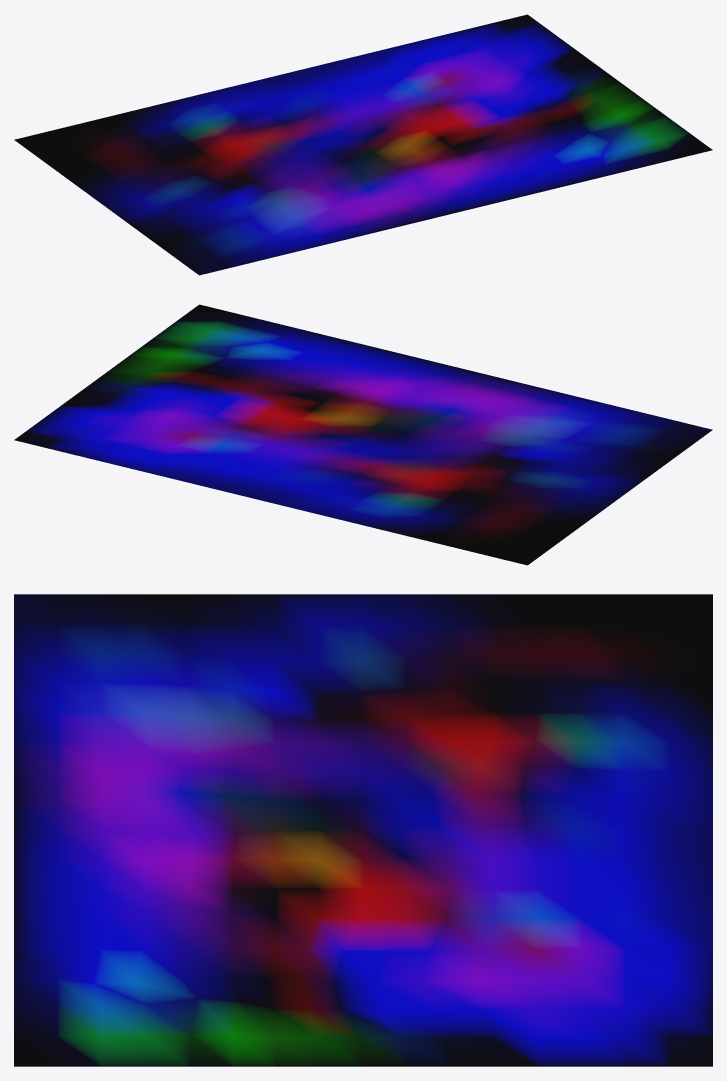
Rendered from M_Env_Sol1.fbx.
3 renders of one model, top to bottom at view 1: azimuth 30°, elevation 25°; view 2: azimuth 150°, elevation 25°; view 3: azimuth 270°, elevation 25°, orthographic. The views are drawn at different scales.
Visible parts, largest first — view 1: Plane.037; view 2: Plane.037; view 3: Plane.037.
Boxes of the visible parts, x1,y1,x2,y2 form: Plane.037: (14,14,712,275); Plane.037: (14,304,712,565); Plane.037: (14,594,712,1066).
Size of the model in its own units: 0.0258 by 0.0161 by 5.4e-09.
